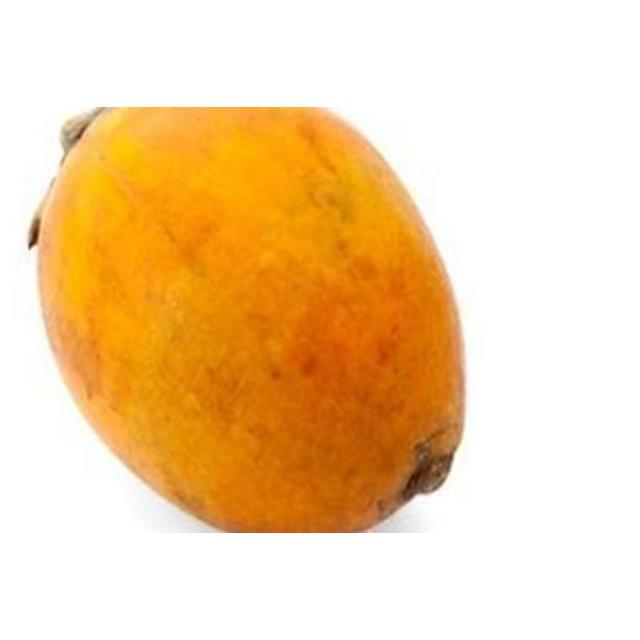good: (28, 107, 468, 532)
